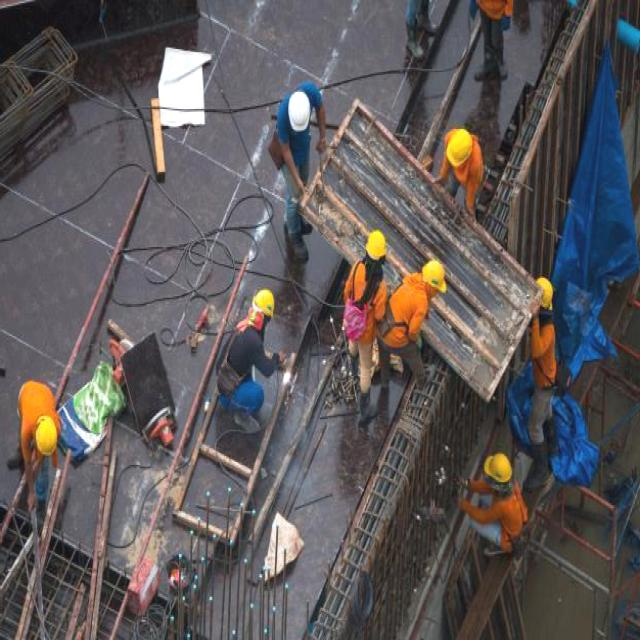head_helmet: (441, 128, 471, 168), (35, 412, 57, 461), (286, 90, 312, 130), (416, 261, 451, 290), (251, 282, 276, 318), (364, 229, 391, 261), (485, 453, 512, 483), (536, 278, 552, 304)
person: (274, 80, 324, 255), (212, 286, 277, 420), (342, 226, 386, 408), (8, 368, 73, 489), (451, 451, 518, 545), (396, 256, 448, 376), (526, 280, 554, 498), (438, 126, 483, 202)
shoes: (280, 219, 316, 266), (352, 388, 382, 427), (232, 403, 262, 437)
